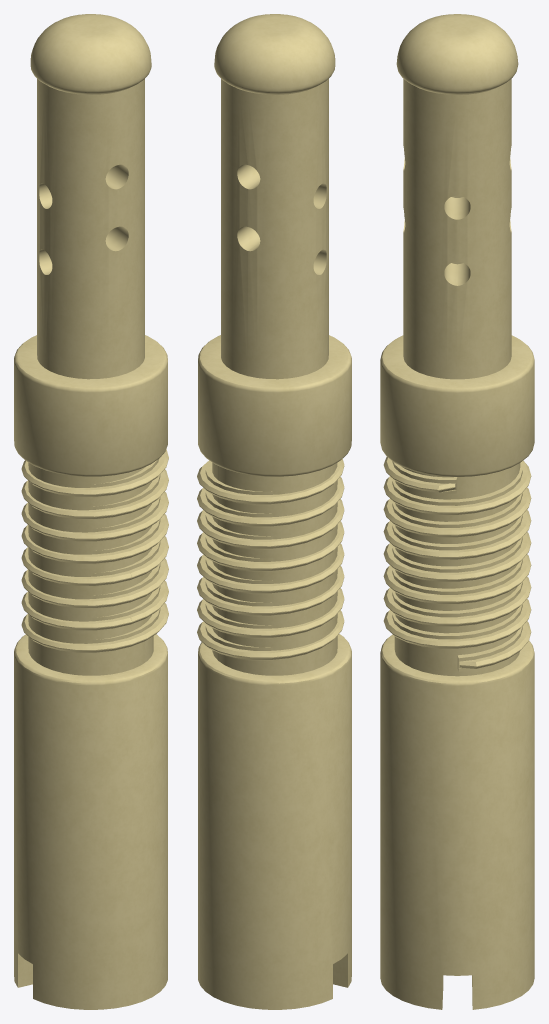
The model's file is pilotJet.glb.
The picture shows the model from 3 angles, left to right: view 1: azimuth 30°, elevation 25°; view 2: azimuth 150°, elevation 25°; view 3: azimuth 270°, elevation 25°; orthographic projection.
Visible parts, largest first — view 1: pilotJet; view 2: pilotJet; view 3: pilotJet.
Part boxes in pixels (bbox=[...]): pilotJet: bbox=[14, 14, 168, 1009]; pilotJet: bbox=[197, 14, 351, 1009]; pilotJet: bbox=[380, 14, 534, 1009].
Bounding box in the file's own units: 0.1593 × 1.07 × 0.158.
1 material, 1 textured.
